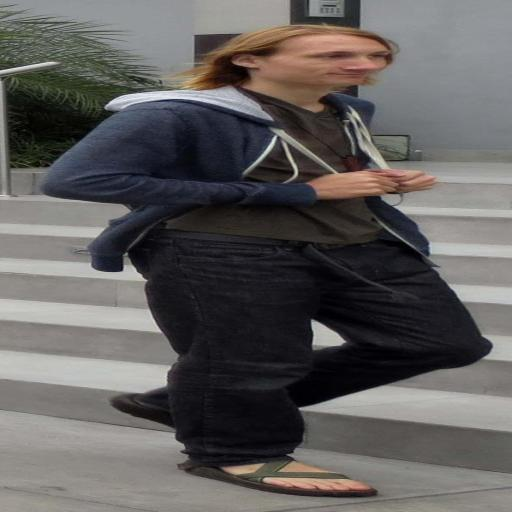person: (43, 25, 491, 496)
